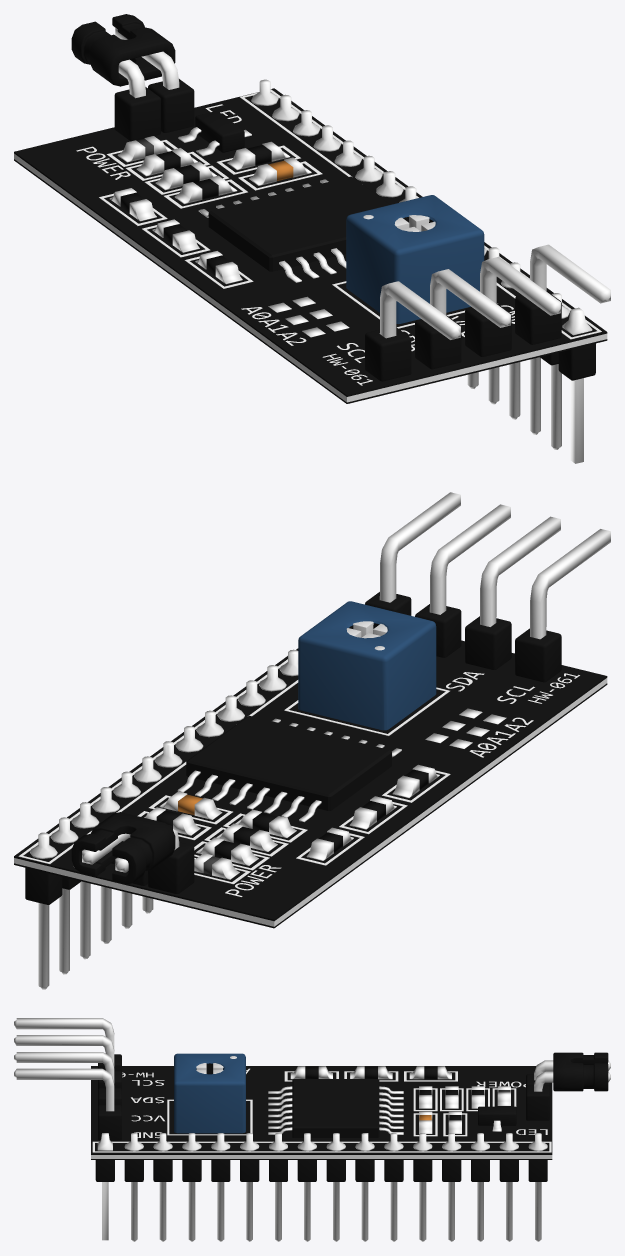
File: I2C Drive V2.fbx
3 views of the same model, one above another, from view 1: azimuth 30°, elevation 25°; view 2: azimuth 150°, elevation 25°; view 3: azimuth 270°, elevation 25° (orthographic). The views are drawn at different scales.
Parts seen in each view (by area): view 1: Plane, pins.002, Cube, sisa2.002, IO pins.001, pins.003, sisa2.001; view 2: Plane, pins.002, Cube, sisa2.002, IO pins.001, pins.003; view 3: Plane, IO pins.001, sisa2.002, pins.002, Cube, pins.003, sisa2.001.
Boxes of the visible parts, bbox=[...] form: Plane: bbox=[14, 88, 607, 403]; pins.002: bbox=[365, 244, 610, 381]; Cube: bbox=[346, 195, 484, 323]; sisa2.002: bbox=[198, 176, 390, 282]; IO pins.001: bbox=[251, 79, 595, 463]; pins.003: bbox=[71, 14, 194, 141]; sisa2.001: bbox=[178, 111, 251, 156]; Plane: bbox=[14, 640, 607, 928]; pins.002: bbox=[365, 492, 610, 682]; Cube: bbox=[298, 601, 436, 730]; sisa2.002: bbox=[177, 715, 401, 822]; IO pins.001: bbox=[25, 649, 298, 989]; pins.003: bbox=[71, 812, 194, 893]; Plane: bbox=[91, 1066, 552, 1159]; IO pins.001: bbox=[95, 1133, 547, 1241]; sisa2.002: bbox=[268, 1079, 403, 1137]; pins.002: bbox=[14, 1018, 121, 1140]; Cube: bbox=[174, 1053, 245, 1133]; pins.003: bbox=[526, 1052, 610, 1120]; sisa2.001: bbox=[478, 1106, 516, 1131].
Size of the model in its own units: 6.25 by 5.25 by 17.9.
